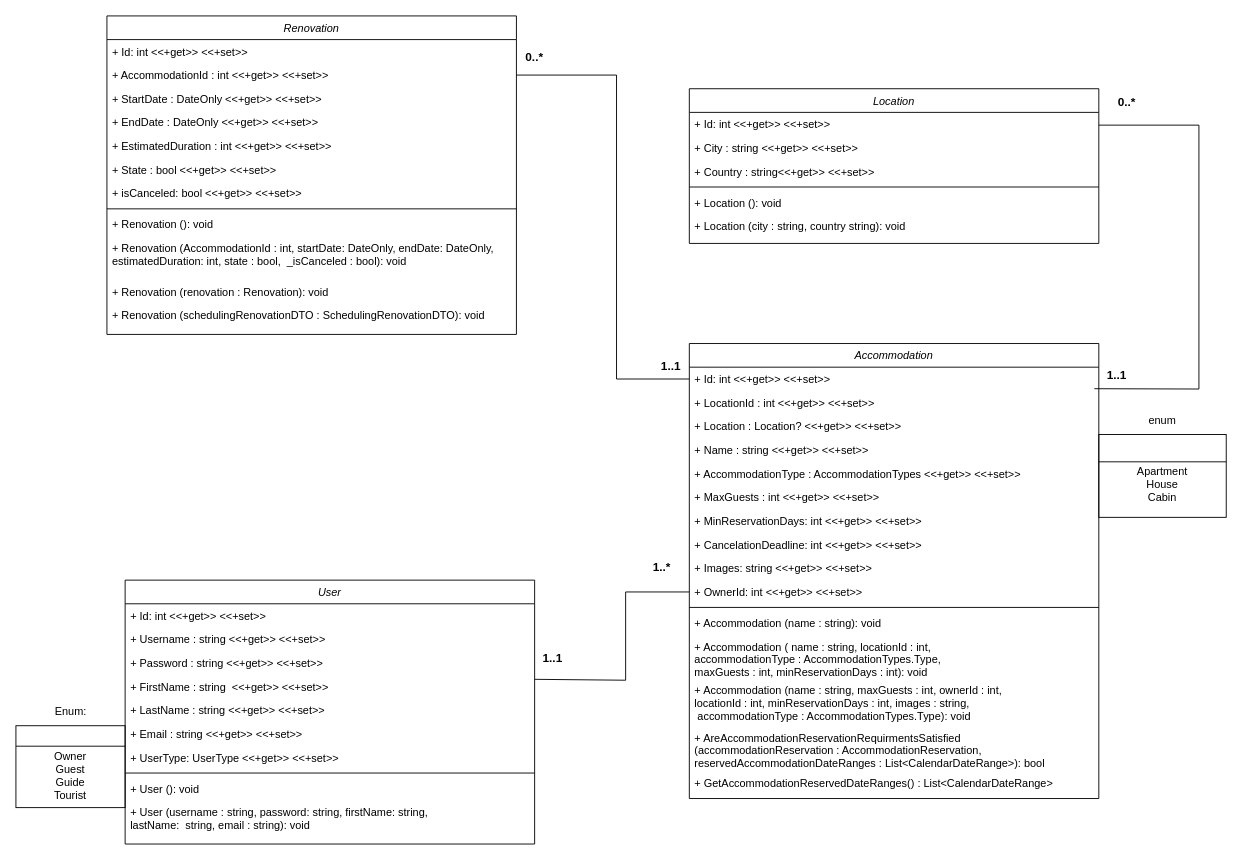
Some shapes in this 1243 by 863 pixel diagram are drawn without their labels. The shapes that lost their labels are listed below. From the top down, each one's box as (x1, y1, x2, y2) in pixels, then its label:
(1098, 434, 1226, 517): AccommodationType
(15, 725, 125, 808): UserType
